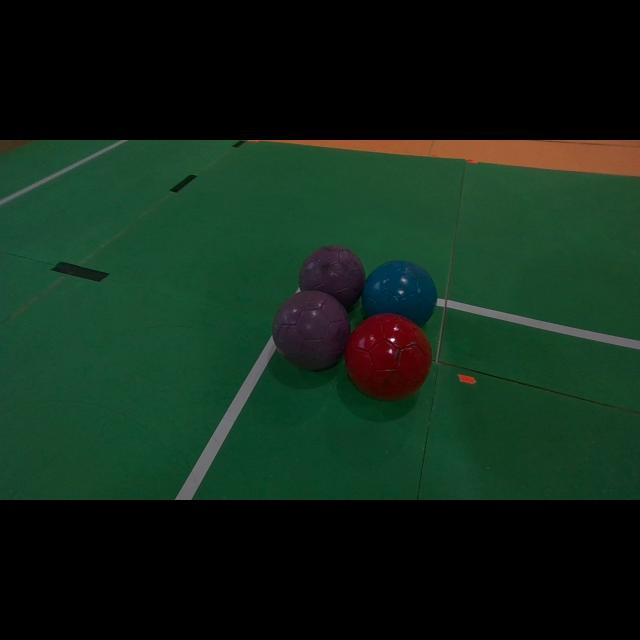B: (362, 260, 438, 326)
P: (272, 290, 350, 370), (299, 245, 365, 308)
R: (345, 314, 432, 400)
